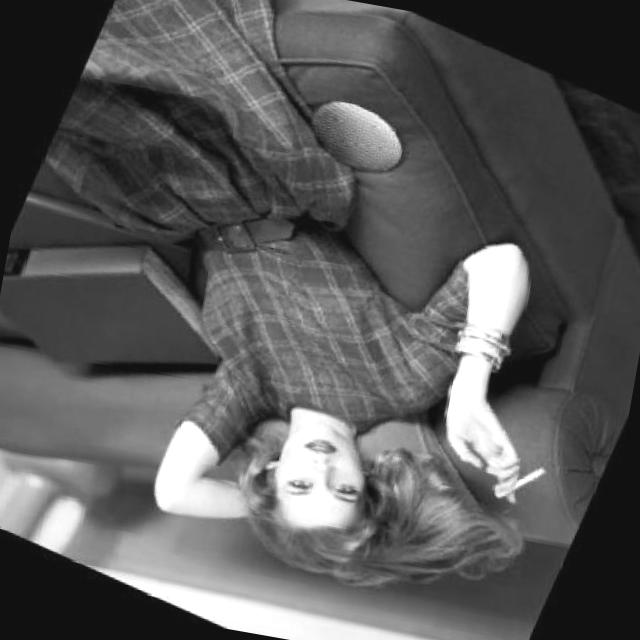cigarette: (486, 446, 548, 512)
